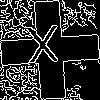X: (25, 25, 62, 73)
